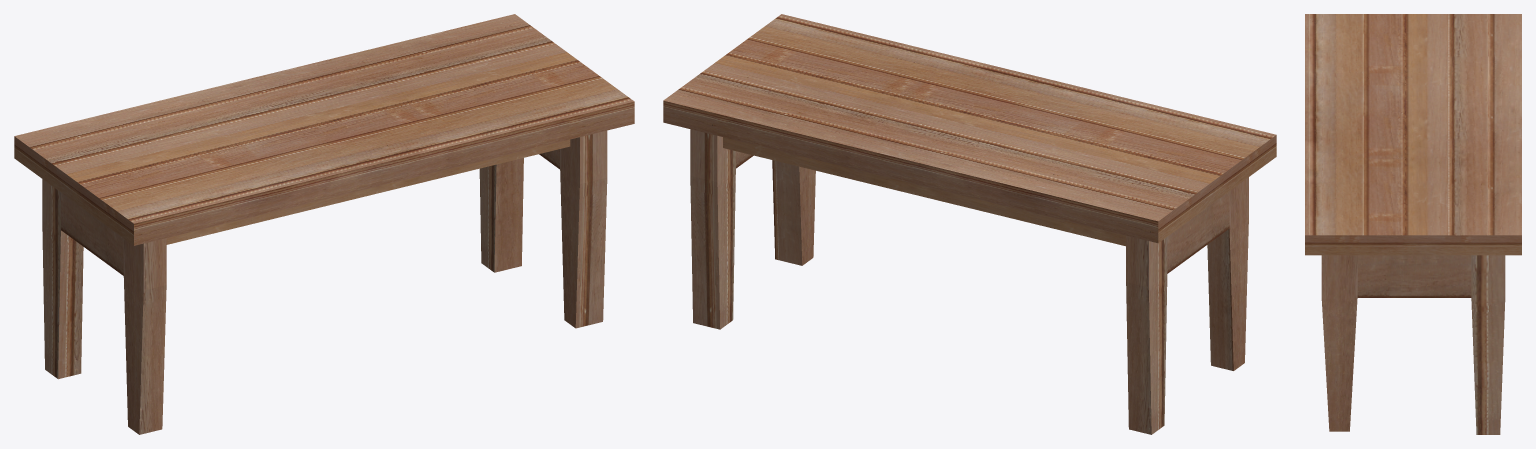
File: Prop_table2.FBX
3 views of the same model, side by side, from view 1: azimuth 30°, elevation 25°; view 2: azimuth 150°, elevation 25°; view 3: azimuth 270°, elevation 25° (orthographic). The views are drawn at different scales.
Visible parts, largest first — view 1: table004; view 2: table004; view 3: table004.
Part boxes in pixels (x1,y1,x2,y2): table004: (14,14,634,434); table004: (663,14,1276,434); table004: (1305,14,1521,434).
Size of the model in its own units: 56.06 by 23.21 by 24.53.
1 material, 1 textured.
